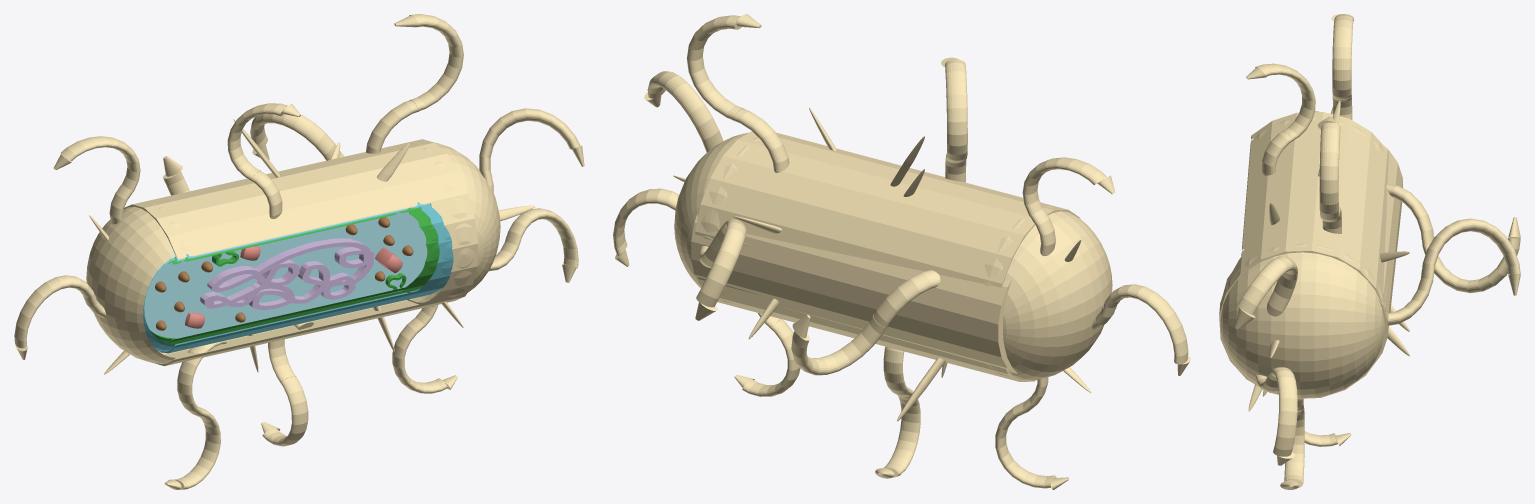
The model's file is tinker.obj.
The picture shows the model from 3 angles, left to right: view 1: azimuth 30°, elevation 25°; view 2: azimuth 150°, elevation 25°; view 3: azimuth 270°, elevation 25°; orthographic projection. The views are drawn at different scales.
Visible parts, largest first — view 1: group_0_16311991, group_0_11593967, group_0_13877221, group_0_7720667, group_0_4634441, group_0_11107152, group_0_15308428; view 2: group_0_16311991; view 3: group_0_16311991.
Boxes of the visible parts, <box> form: group_0_16311991: <box>14,14,584,489</box>; group_0_11593967: <box>144,211,427,338</box>; group_0_13877221: <box>200,238,374,309</box>; group_0_7720667: <box>143,202,453,353</box>; group_0_4634441: <box>149,207,439,344</box>; group_0_11107152: <box>155,217,413,330</box>; group_0_15308428: <box>185,246,402,328</box>; group_0_16311991: <box>613,14,1190,489</box>; group_0_16311991: <box>1219,14,1520,489</box>.
Size of the model in its own units: 119 by 81.9 by 57.18.
